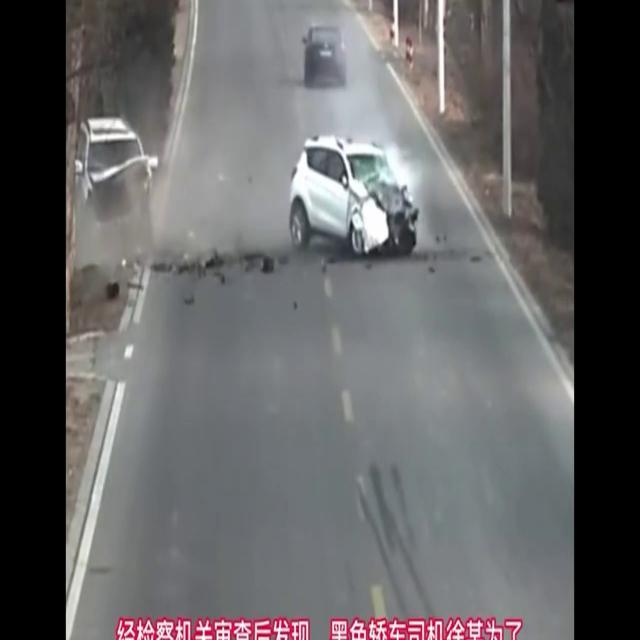multiple_accident: (76, 86, 483, 346)
